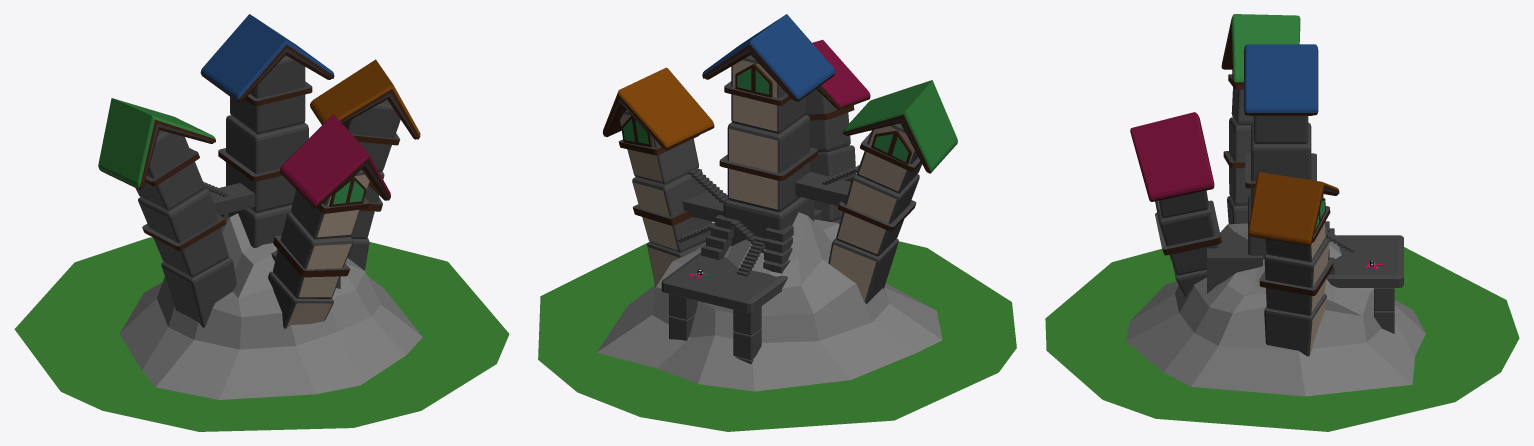
File: island_Odonhull.gltf
The picture shows the model from 3 angles, left to right: view 1: azimuth 30°, elevation 25°; view 2: azimuth 150°, elevation 25°; view 3: azimuth 270°, elevation 25°; orthographic projection. The views are drawn at different scales.
Visible parts, largest first — view 1: Plane, Stone.039, Stone.058, Stone.038, Stone.036, Stone.035, Stone.037, Stone.033, Cube.025, Stone.040; view 2: Plane, Stone.039, Stone.038, Stone.036, Stone.058, Stone.035, Stone.041, Stone.037, Stone.033, Cube.025, Stone.055, Stone.057 (+8 smaller); view 3: Plane, Stone.038, Stone.058, Stone.039, Stone.035, Stone.041, Stone.036, Cube.033, Stone.037, Stone.042.
Part boxes in pixels (left/top/right/bottom): Plane: left=14, top=213, right=509, bottom=431; Stone.039: left=98, top=98, right=236, bottom=327; Stone.058: left=268, top=114, right=390, bottom=328; Stone.038: left=310, top=59, right=420, bottom=270; Stone.036: left=218, top=115, right=308, bottom=212; Stone.035: left=200, top=14, right=334, bottom=102; Stone.037: left=230, top=55, right=312, bottom=134; Stone.033: left=228, top=204, right=292, bottom=247; Cube.025: left=210, top=183, right=255, bottom=215; Stone.040: left=329, top=176, right=366, bottom=206; Plane: left=538, top=212, right=1016, bottom=431; Stone.039: left=828, top=80, right=957, bottom=303; Stone.038: left=602, top=67, right=714, bottom=287; Stone.036: left=719, top=115, right=817, bottom=212; Stone.058: left=805, top=39, right=870, bottom=224; Stone.035: left=702, top=14, right=835, bottom=101; Stone.041: left=661, top=252, right=787, bottom=313; Stone.037: left=724, top=55, right=806, bottom=133; Stone.033: left=723, top=197, right=814, bottom=245; Cube.025: left=795, top=172, right=850, bottom=205; Stone.055: left=735, top=63, right=772, bottom=97; Stone.057: left=871, top=130, right=912, bottom=164; Plane: left=1045, top=223, right=1519, bottom=431; Stone.038: left=1248, top=172, right=1339, bottom=356; Stone.058: left=1130, top=112, right=1221, bottom=296; Stone.039: left=1221, top=14, right=1300, bottom=224; Stone.035: left=1244, top=44, right=1318, bottom=115; Stone.041: left=1326, top=235, right=1403, bottom=287; Stone.036: left=1245, top=122, right=1316, bottom=212; Cube.033: left=1207, top=232, right=1262, bottom=293; Stone.037: left=1249, top=115, right=1312, bottom=143; Stone.042: left=1374, top=288, right=1394, bottom=310.
Size of the model in its own units: 237 by 164 by 238.
